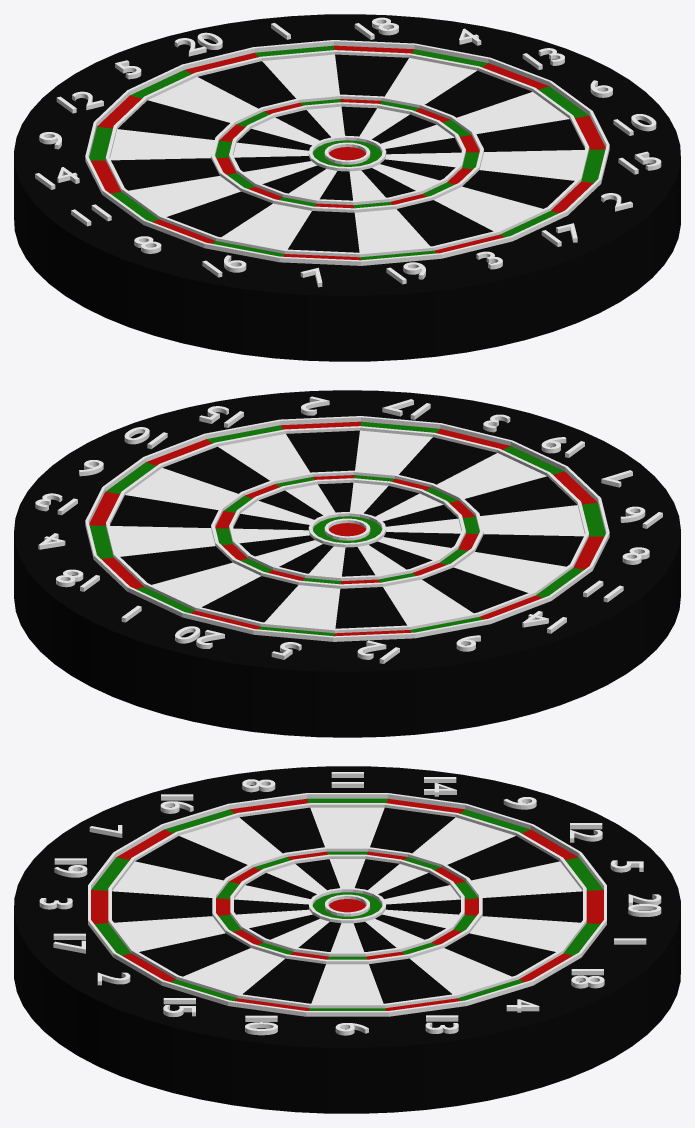
The model's file is board.fbx.
The picture shows the model from 3 angles, top to bottom: view 1: azimuth 30°, elevation 25°; view 2: azimuth 150°, elevation 25°; view 3: azimuth 270°, elevation 25°; orthographic projection.
Parts seen in each view (by area): view 1: Outside, Cylinder, Single_9, Single_10, Single_15, Single_12, Single_14, Single_6, Single_5, Single_2, Single_13, Single_20 (+17 smaller); view 2: Outside, Cylinder, Single_16, Single_13, Single_4, Single_8, Single_7, Single_6, Single_19, Single_10, Single_18, Single_3 (+17 smaller); view 3: Outside, Cylinder, Single_20, Single_3, Single_19, Single_5, Single_12, Single_7, Single_1, Single_17, Single_16, Single_9 (+21 smaller).
Part boxes in pixels (x1,y1,x2,y2): Outside: (14, 14, 680, 361); Cylinder: (85, 40, 609, 265); Single_9: (110, 129, 308, 160); Single_10: (385, 119, 584, 154); Single_15: (385, 150, 584, 180); Single_12: (118, 100, 311, 150); Single_14: (111, 156, 310, 190); Single_6: (381, 91, 569, 148); Single_5: (148, 77, 319, 145); Single_2: (380, 159, 574, 208); Single_13: (372, 70, 531, 143); Single_20: (198, 61, 330, 140); Outside: (14, 390, 680, 737); Cylinder: (85, 416, 609, 641); Single_16: (386, 505, 584, 536); Single_13: (110, 495, 309, 530); Single_4: (110, 526, 309, 556); Single_8: (384, 532, 583, 566); Single_7: (382, 476, 576, 526); Single_6: (125, 468, 313, 524); Single_19: (375, 453, 546, 521); Single_10: (163, 446, 322, 519); Single_18: (120, 535, 314, 584); Single_3: (364, 437, 496, 516); Outside: (14, 766, 680, 1113); Cylinder: (88, 793, 606, 1016); Single_20: (386, 891, 582, 922); Single_3: (112, 891, 308, 922); Single_19: (112, 861, 310, 904); Single_5: (384, 861, 582, 904); Single_12: (378, 836, 559, 898); Single_7: (135, 836, 316, 898); Single_1: (382, 909, 580, 951); Single_17: (114, 909, 312, 951); Single_16: (179, 817, 326, 893); Single_9: (368, 817, 515, 893).
Size of the model in its own units: 45.96 by 5.33 by 45.96.
